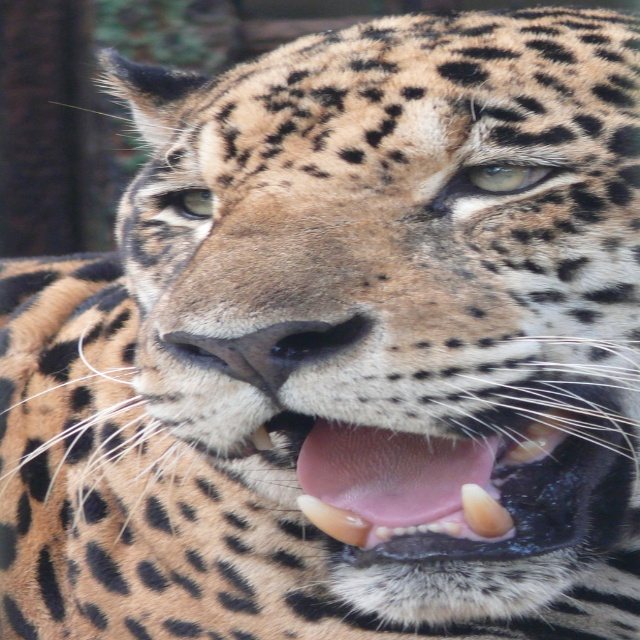Leopard: (0, 4, 639, 640)
